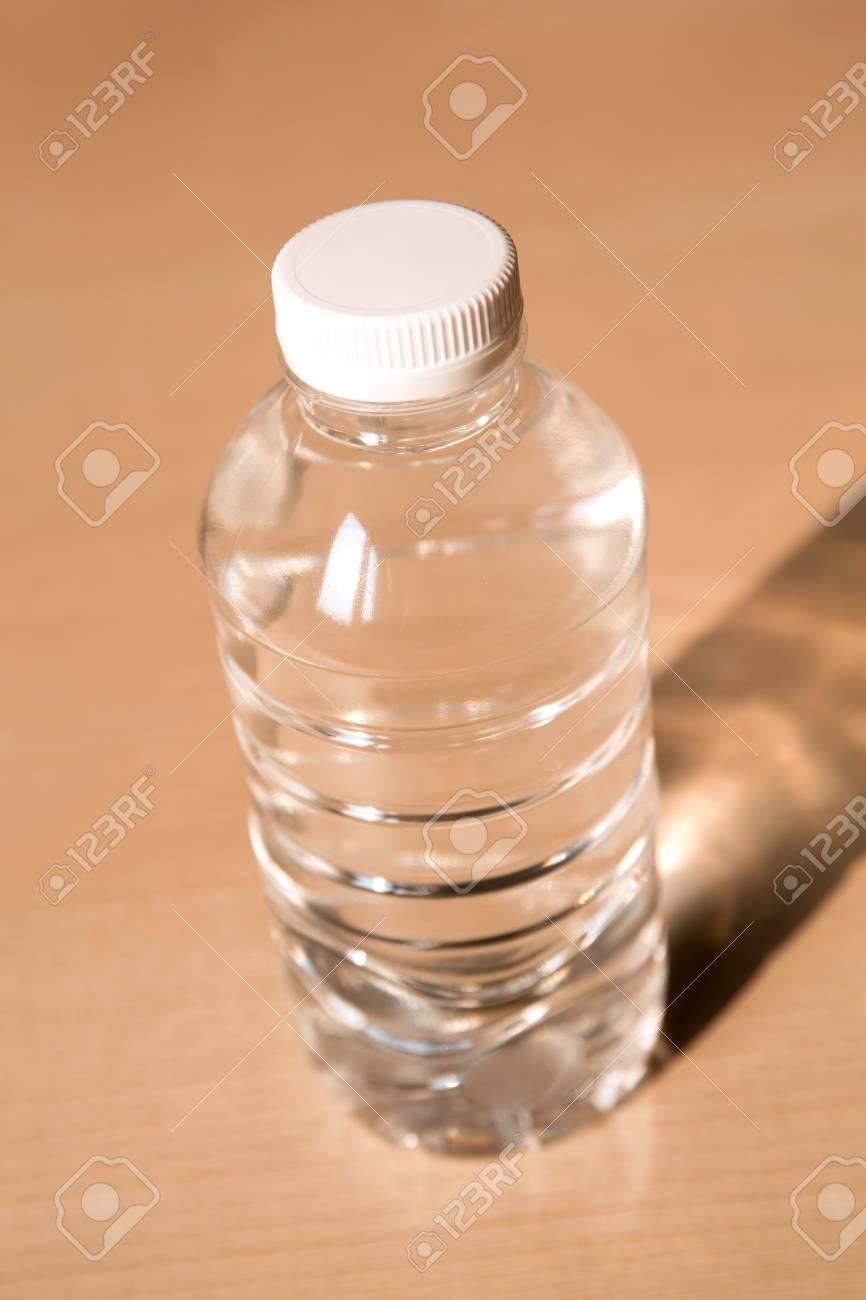plastic_bottle: (195, 190, 681, 1144)
